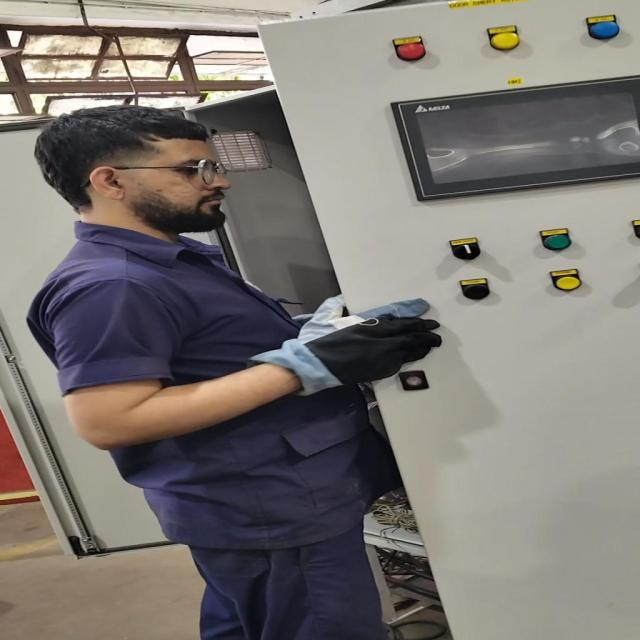Gloves-Detection: (260, 289, 465, 399)
